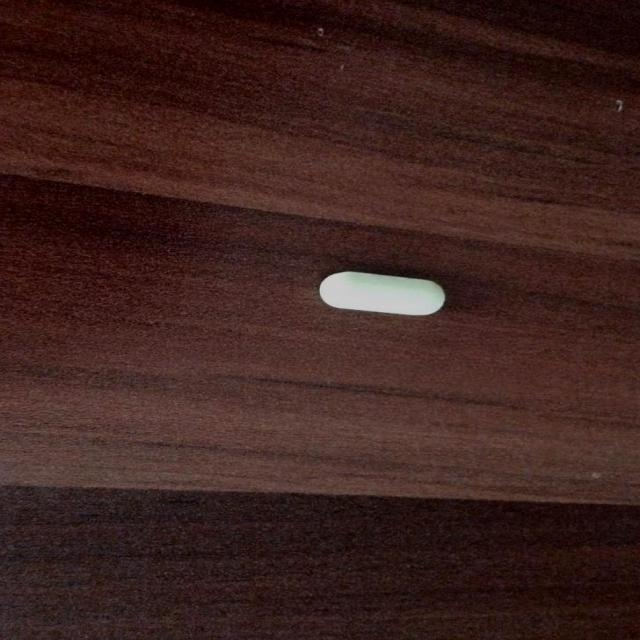pill: (319, 270, 448, 322)
